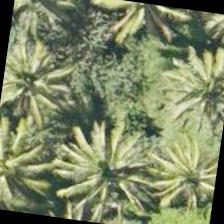Kelapa_Sawit: (55, 123, 158, 223), (0, 39, 75, 138), (156, 45, 223, 144), (0, 118, 53, 216), (9, 0, 80, 47)
